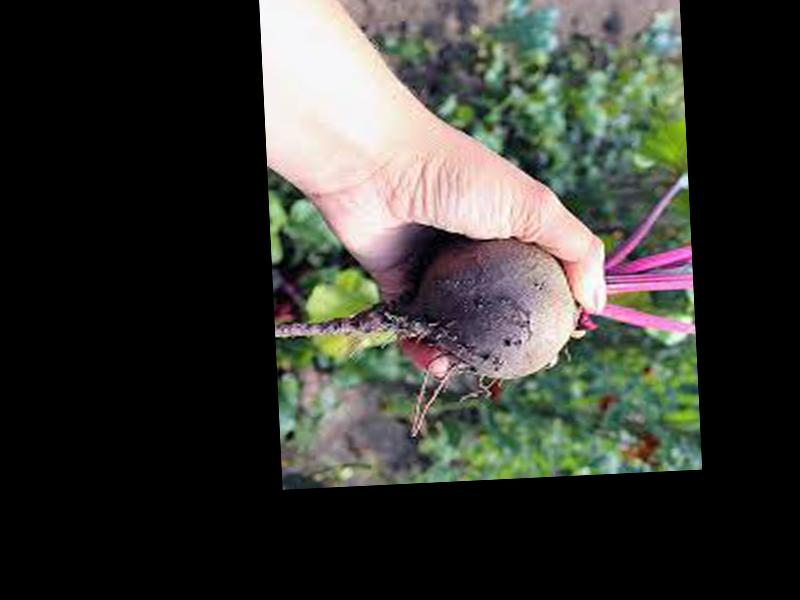Beet: (267, 171, 697, 445)
